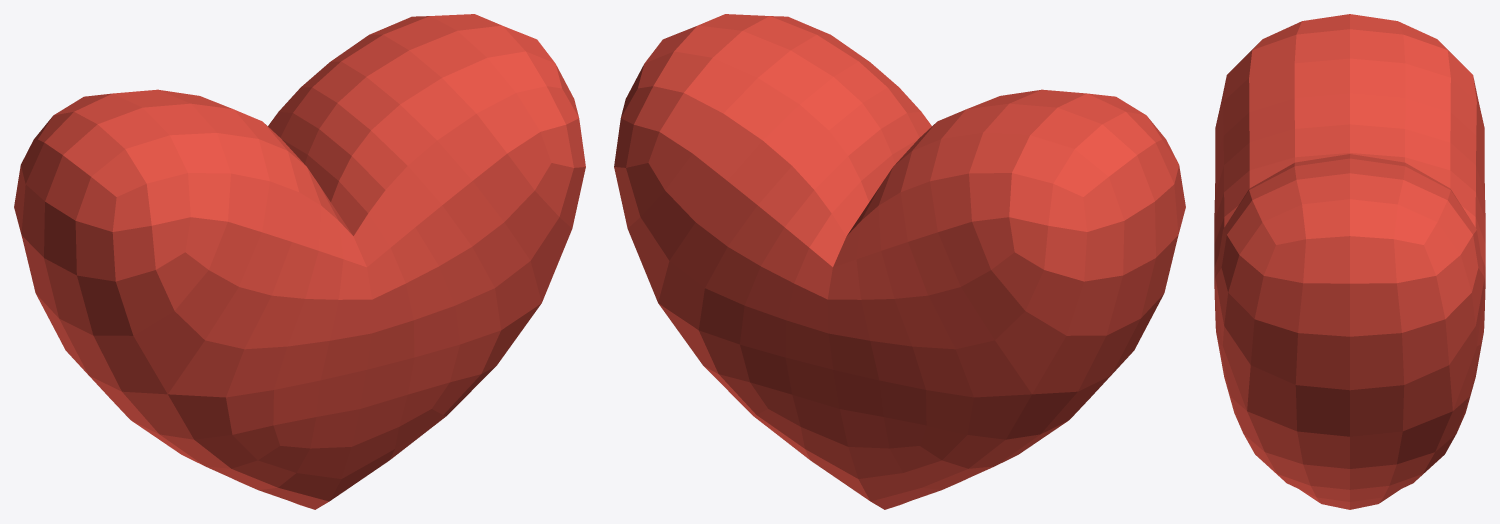
Rendered from Heart.gltf.
3 views of the same model, side by side, from view 1: azimuth 30°, elevation 25°; view 2: azimuth 150°, elevation 25°; view 3: azimuth 270°, elevation 25° (orthographic). The views are drawn at different scales.
Visible parts, largest first — view 1: Heart; view 2: Heart; view 3: Heart.
Boxes of the visible parts, bbox=[...] form: Heart: bbox=[14, 14, 585, 509]; Heart: bbox=[614, 14, 1185, 509]; Heart: bbox=[1214, 14, 1485, 509].
Bounding box in the file's own units: 0.8019 × 0.6522 × 0.3927.
